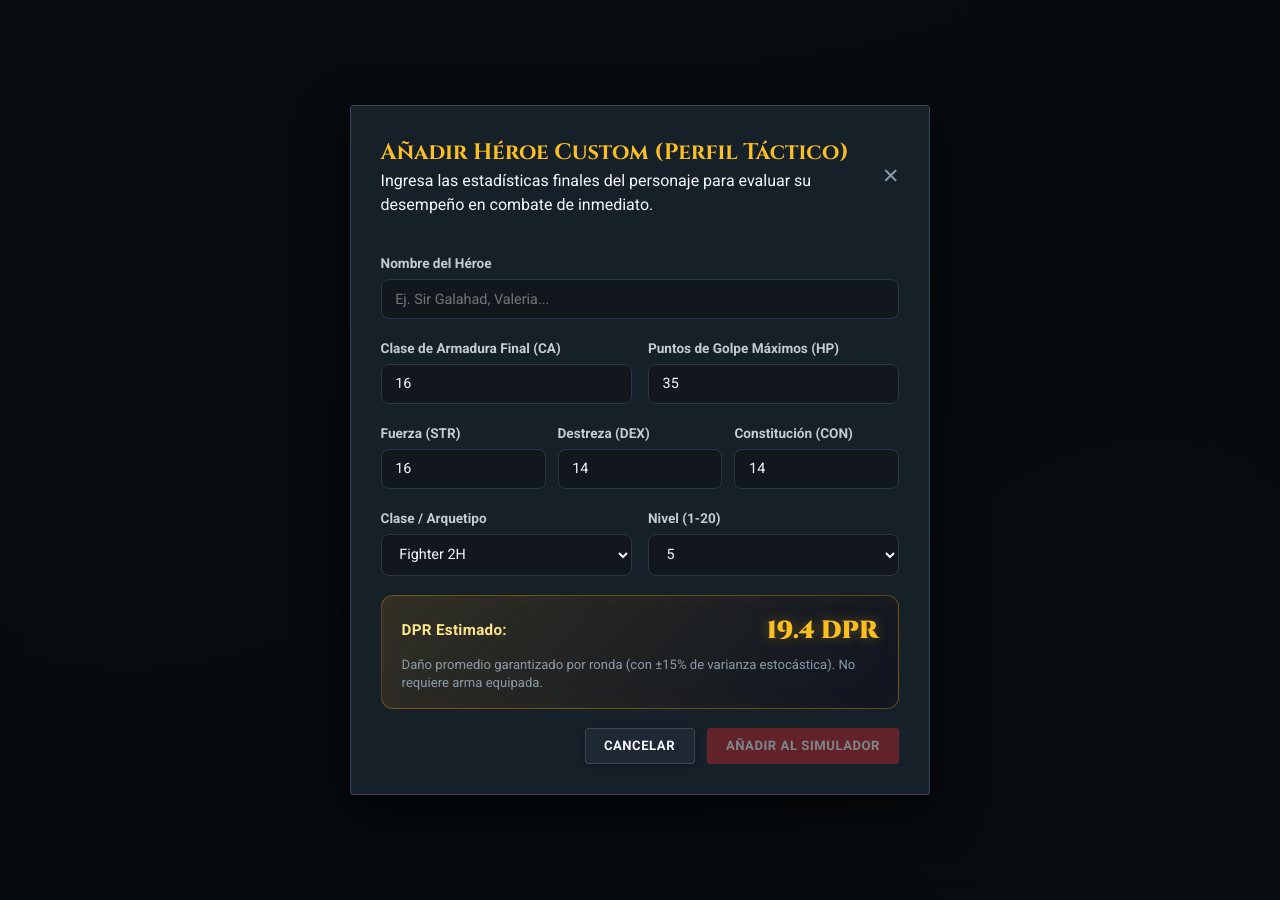
Scenario: CustomHeroModal Component › displays error message if save fails
This screenshot has width=1280, height=900.
Type "Hero Error" into the field with id "hero-name-input" at coordinates (640, 299), box [381, 279, 899, 319]
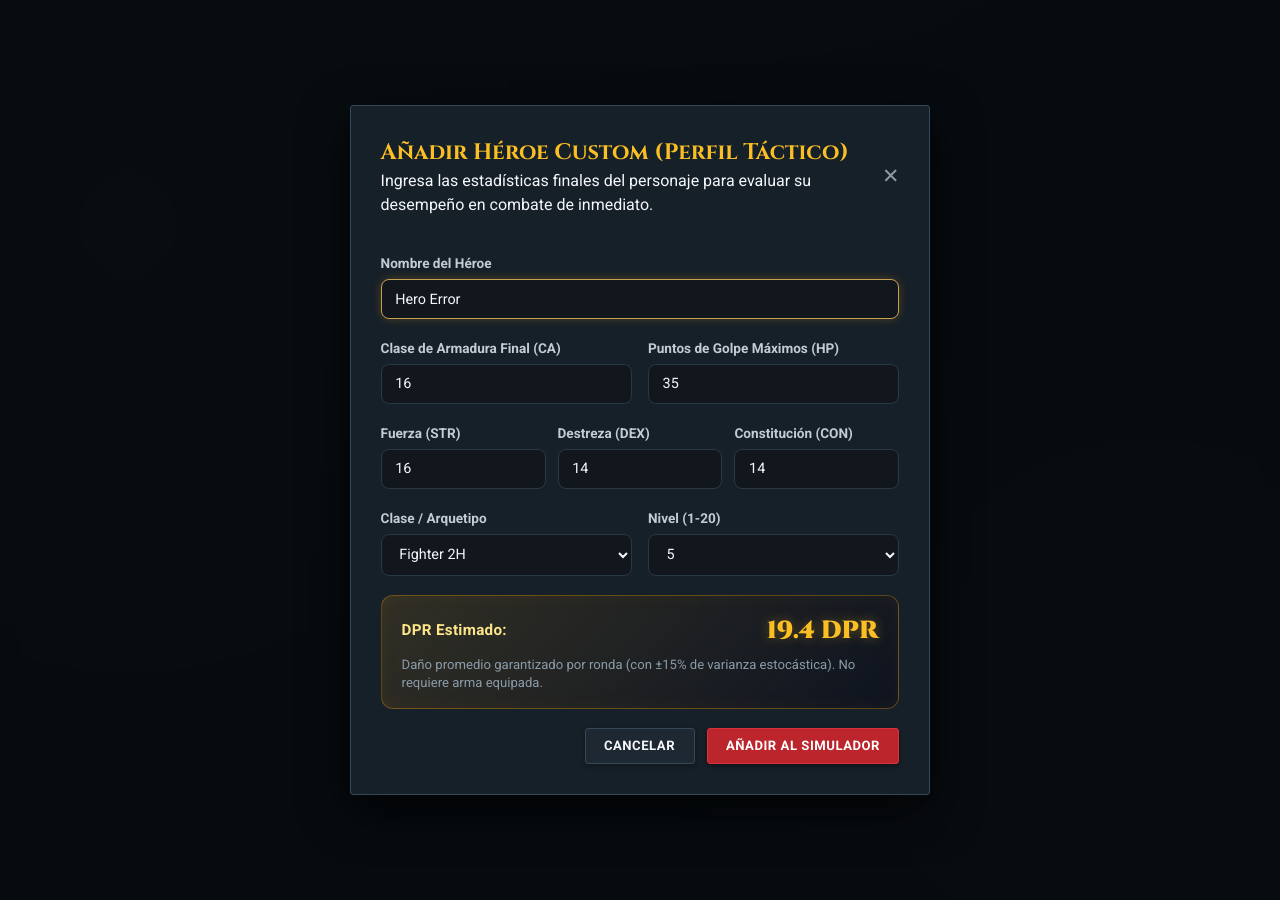
Click the button with id "save-custom-hero-btn" at coordinates (803, 746), box [706, 728, 899, 764]
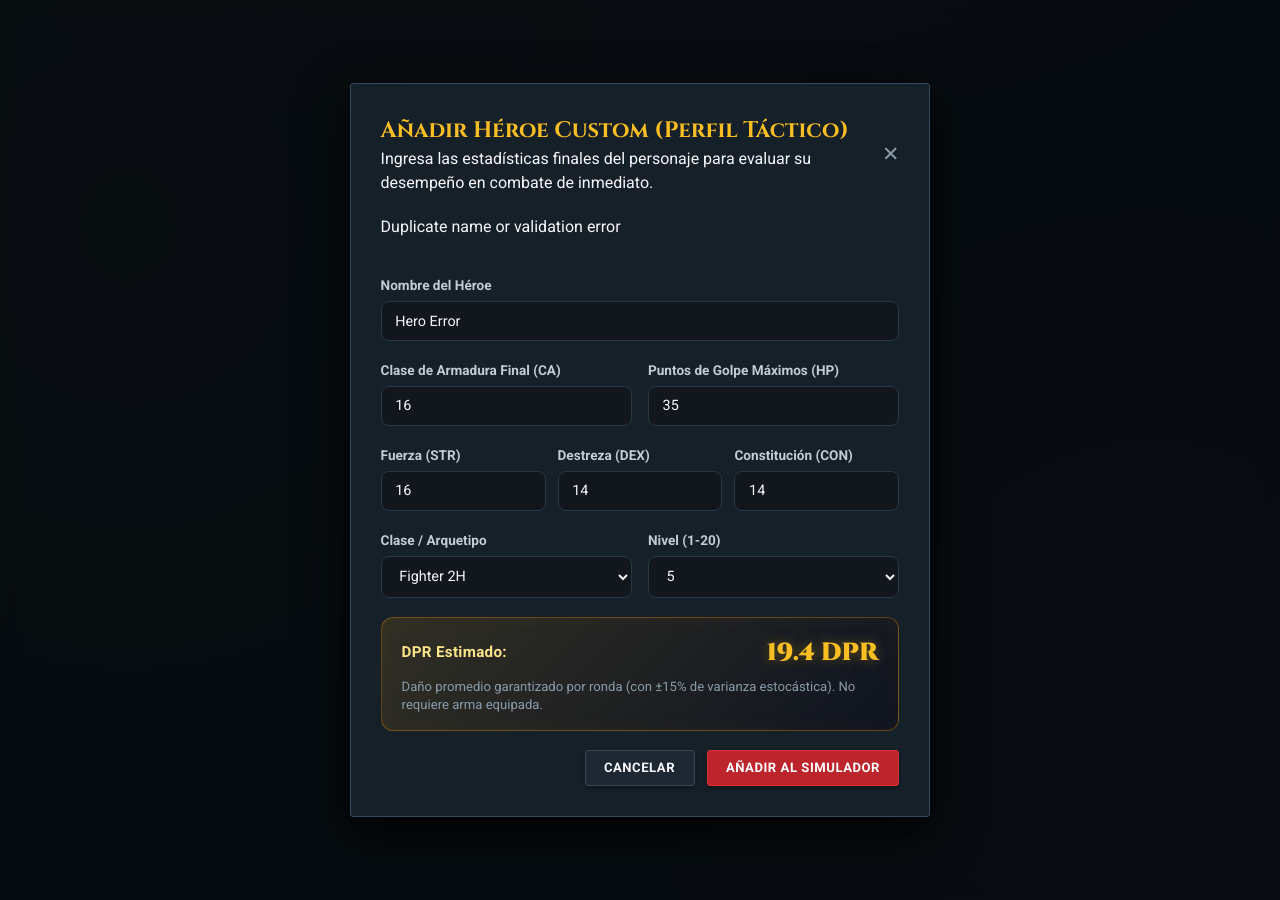
Now the text "Duplicate name or validation error" is shown, box [381, 217, 621, 236]
